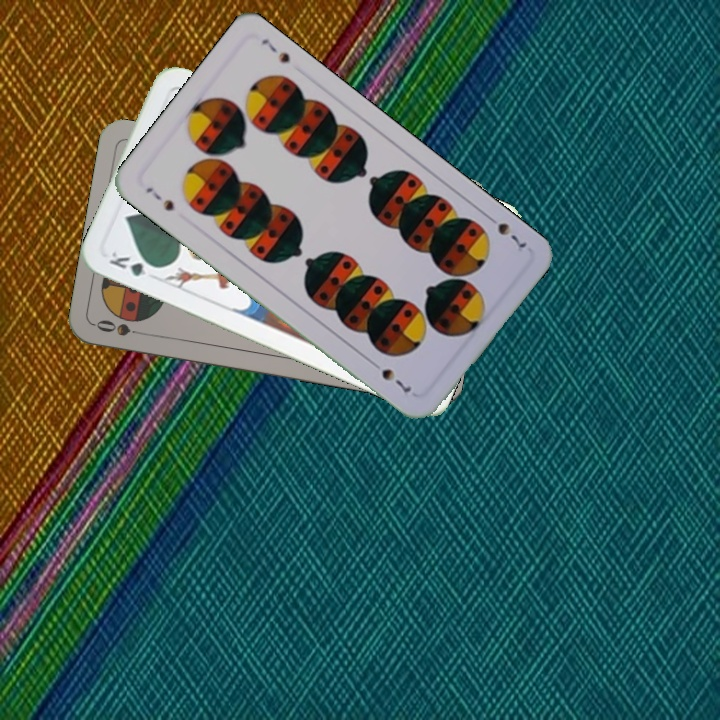GK: (103, 246, 162, 282)
S7: (481, 210, 530, 251), (141, 183, 177, 214)
SO: (92, 315, 151, 339)
